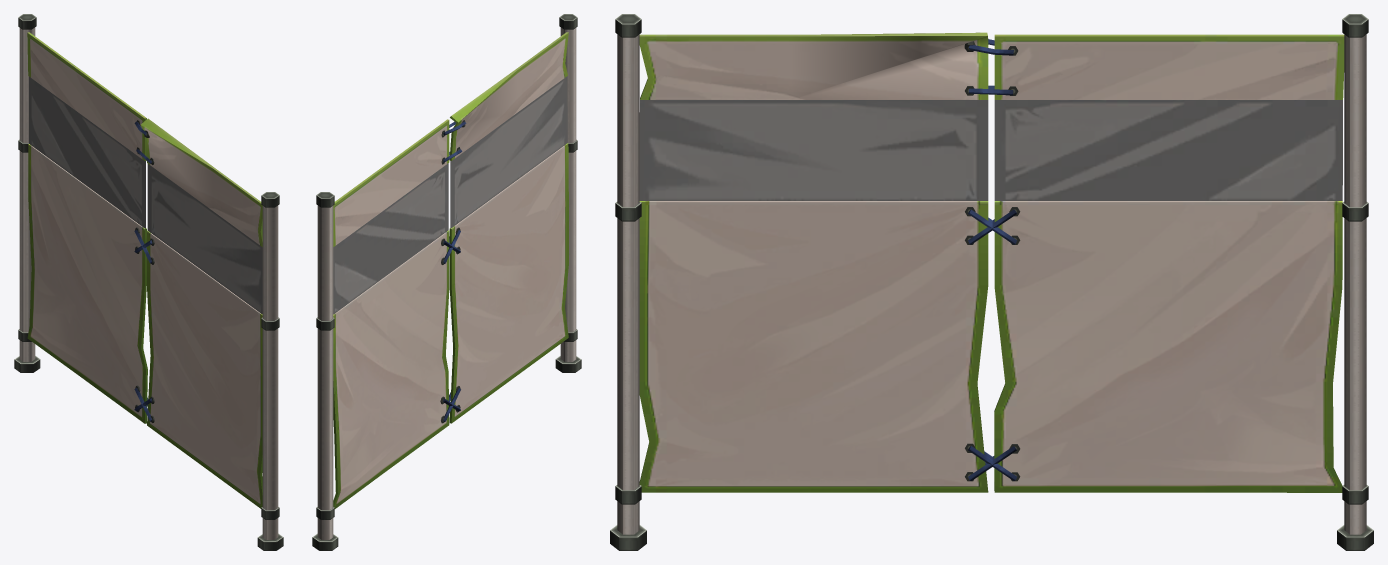
The model's file is my_military_01_partition.glb.
The picture shows the model from 3 angles, left to right: view 1: azimuth 30°, elevation 25°; view 2: azimuth 150°, elevation 25°; view 3: azimuth 270°, elevation 25°; orthographic projection. The views are drawn at different scales.
Visible parts, largest first — view 1: my_military_01_partition; view 2: my_military_01_partition; view 3: my_military_01_partition.
Part boxes in pixels (box(x1,y1,x2,y2)): my_military_01_partition: box(14, 14, 283, 550); my_military_01_partition: box(312, 14, 581, 550); my_military_01_partition: box(610, 14, 1373, 550).
Size of the model in its own units: 0.000853 by 0.0133 by 0.0175.
Materials: 2 (2 with a texture image).
